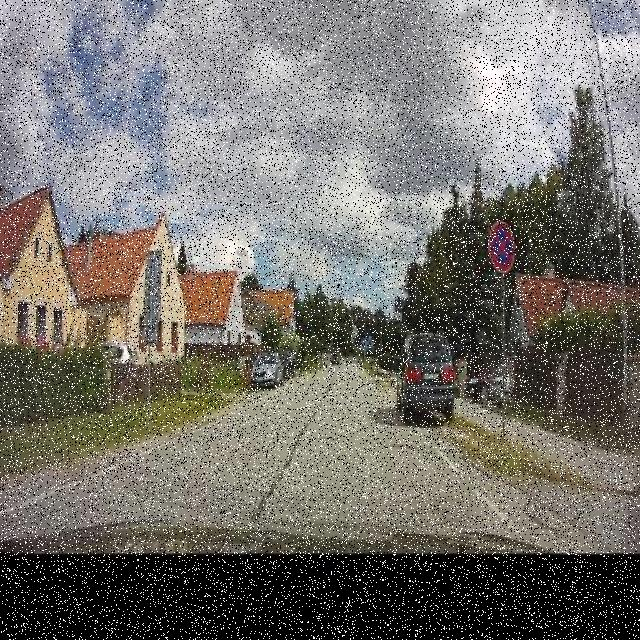clear-road: (181, 360, 468, 497)
